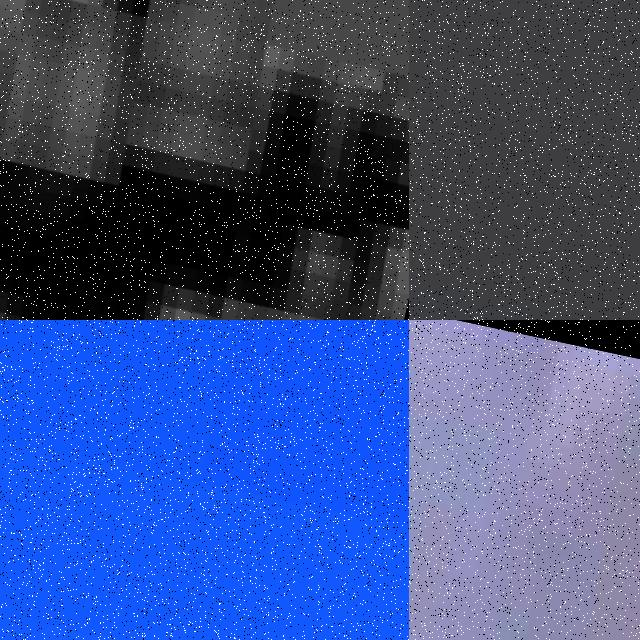drone: (0, 0, 409, 320), (409, 0, 640, 320), (409, 320, 640, 640)
